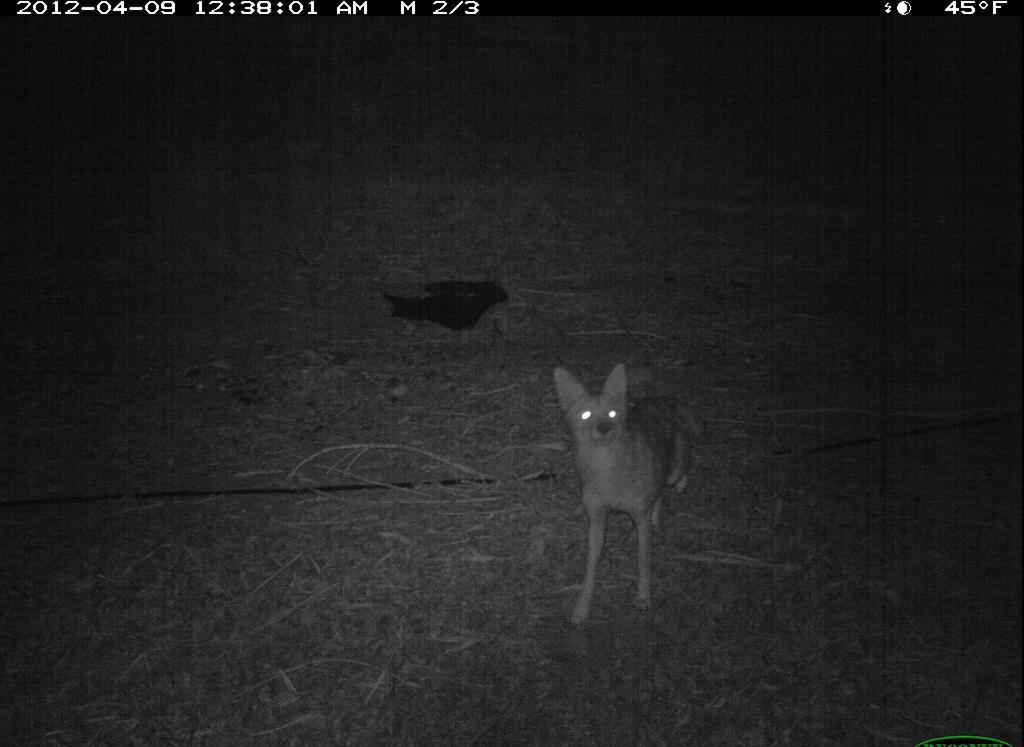coyote: (530, 350, 721, 635)
